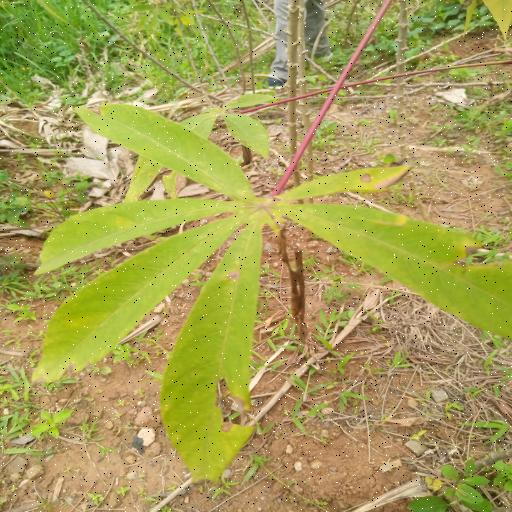Cassava_Brown_Leaf_Spot: (36, 92, 512, 484)
